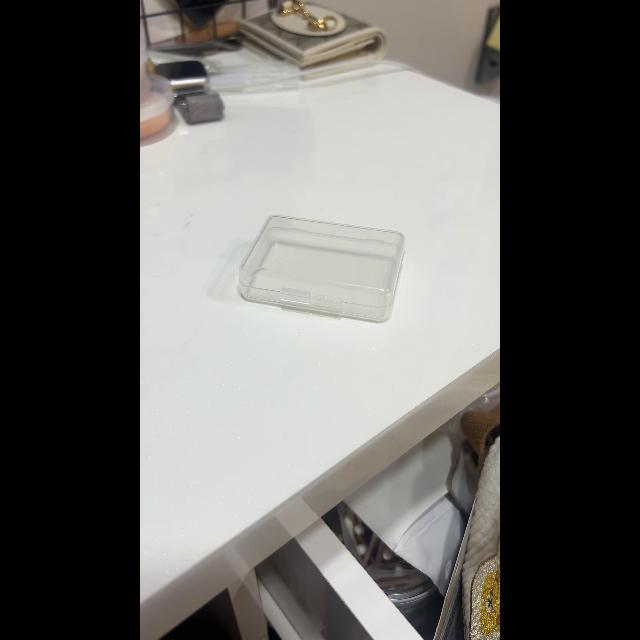clean: (243, 209, 403, 327)
